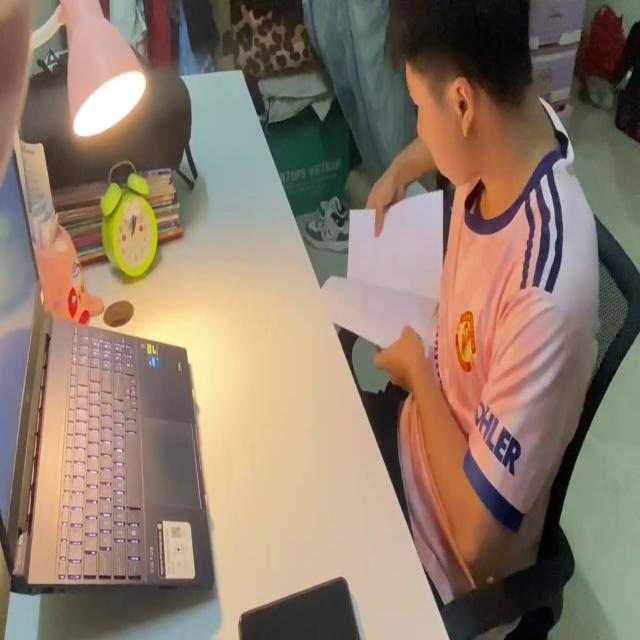book: (320, 169, 446, 370)
laptop: (3, 145, 216, 598)
phone: (235, 572, 363, 640)
student: (356, 1, 600, 640)
